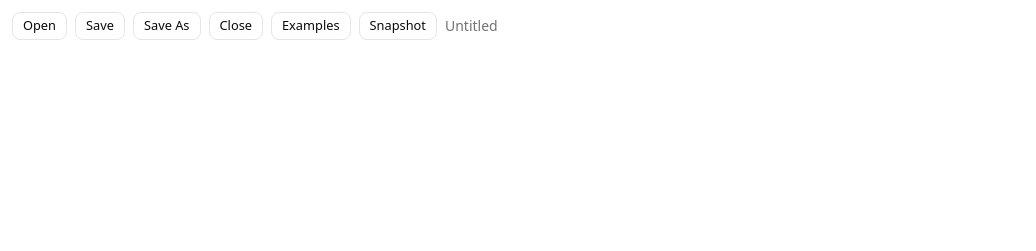
Test case: FileControls › reveals the snapshot panel with the exported text when Snapshot is clicked
Step 1. Click the button "Snapshot" → (398, 26), box [358,12,437,40]
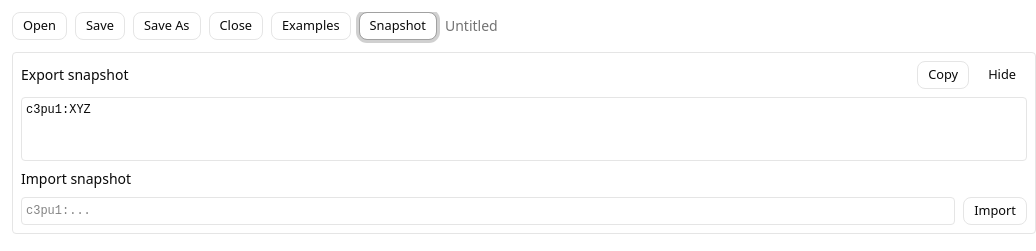
Result: the text box labelled "Export snapshot" holds "c3pu1:XYZ" at [21,97,1027,161]
